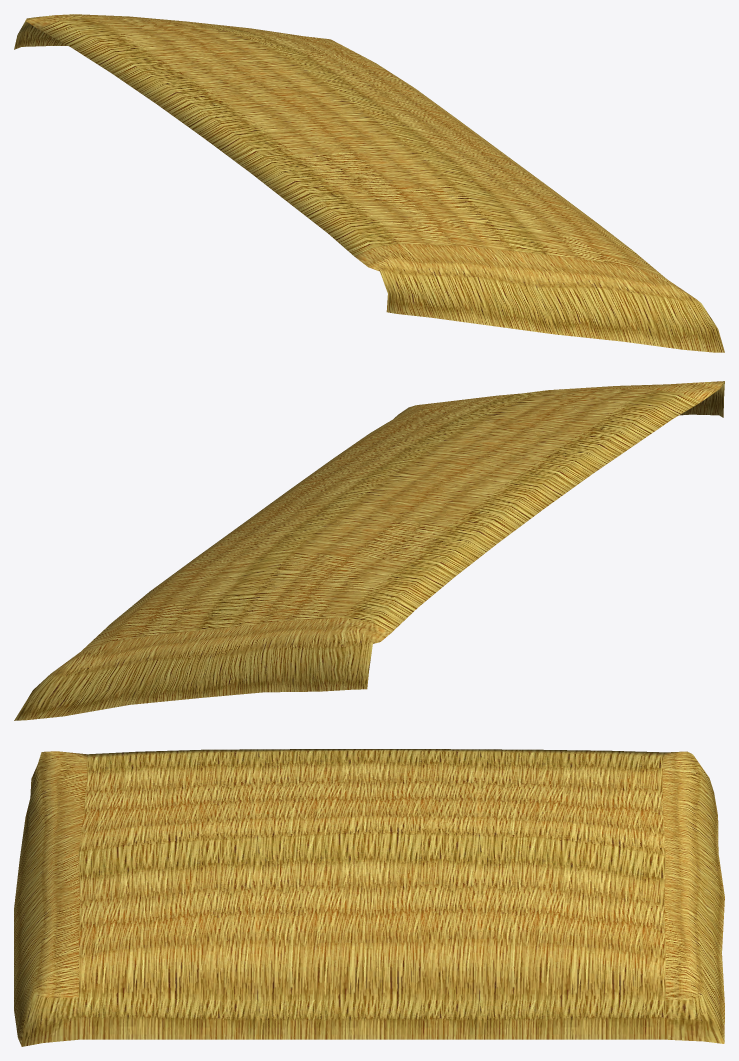
File: HTOWN01_MILLROOF02.fbx
3 views of the same model, one above another, from view 1: azimuth 30°, elevation 25°; view 2: azimuth 150°, elevation 25°; view 3: azimuth 270°, elevation 25° (orthographic). The views are drawn at different scales.
Parts seen in each view (by area): view 1: HTOWN01_MILLROOF02; view 2: HTOWN01_MILLROOF02; view 3: HTOWN01_MILLROOF02.
Boxes of the visible parts, left/top/right/bottom form: HTOWN01_MILLROOF02: left=14, top=14, right=724, bottom=352; HTOWN01_MILLROOF02: left=14, top=381, right=724, bottom=720; HTOWN01_MILLROOF02: left=14, top=749, right=724, bottom=1046.
Size of the model in its own units: 74753 by 34145 by 142873.
Materials: 4 (4 with a texture image).
